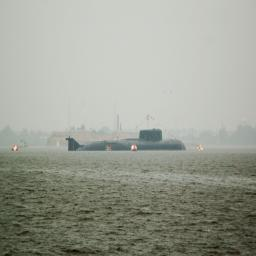submarine: (69, 125, 202, 154)
